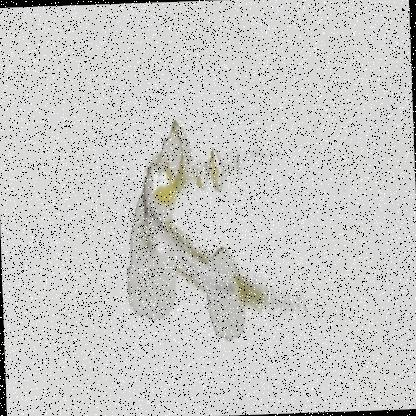Crack: (114, 102, 318, 372)
